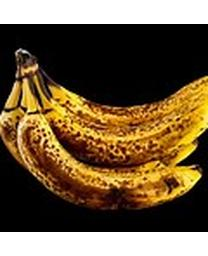banana: (1, 48, 207, 213)
